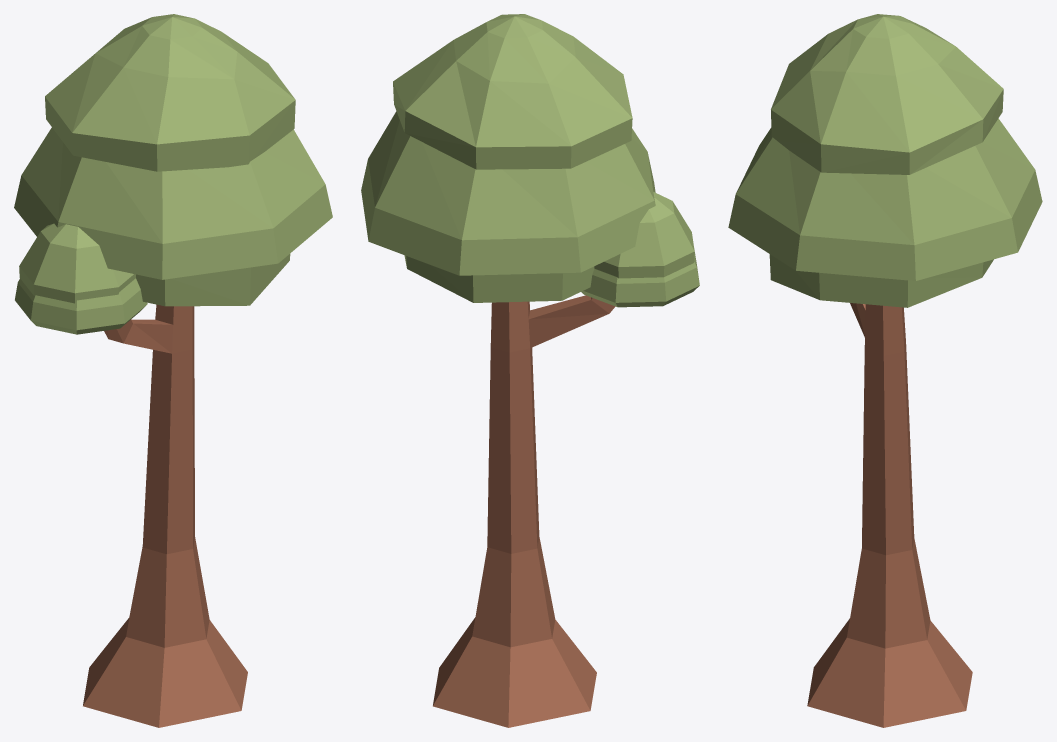
Rendered from round_tree.obj.
3 views of the same model, side by side, from view 1: azimuth 30°, elevation 25°; view 2: azimuth 150°, elevation 25°; view 3: azimuth 270°, elevation 25° (orthographic).
Size of the model in its own units: 5.38 by 11.47 by 4.84.
